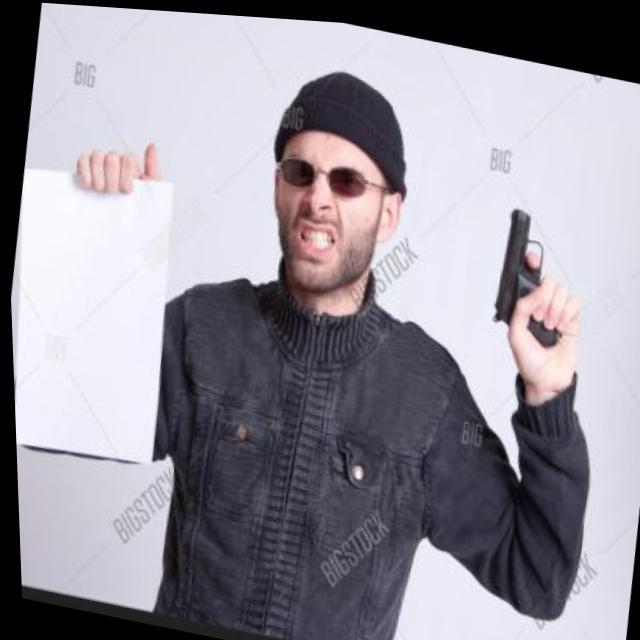weapon: (468, 186, 587, 351)
